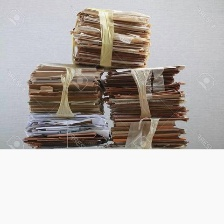news_paper: (20, 57, 112, 148), (106, 59, 193, 151), (65, 3, 159, 74)
